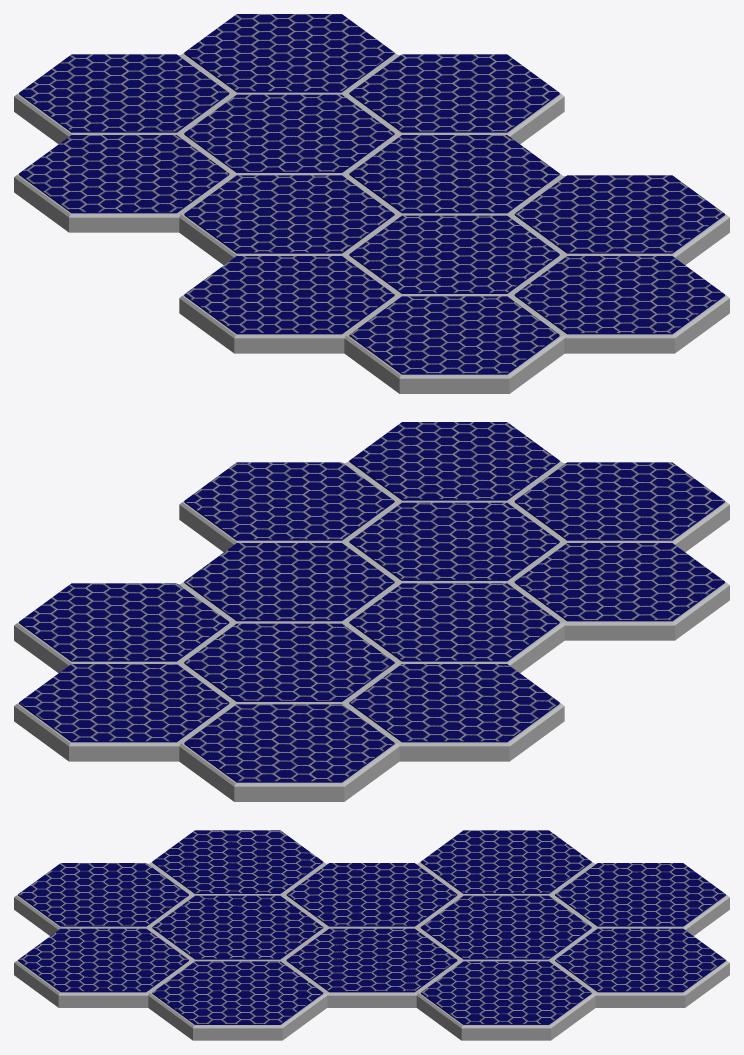
The model's file is SolarHex.fbx.
3 views of the same model, one above another, from view 1: azimuth 30°, elevation 25°; view 2: azimuth 150°, elevation 25°; view 3: azimuth 270°, elevation 25° (orthographic). The views are drawn at different scales.
Visible parts, largest first — view 1: Cylinder; view 2: Cylinder; view 3: Cylinder.
Boxes of the visible parts, x1=… form: Cylinder: x1=14, y1=14, x2=729, y2=393; Cylinder: x1=14, y1=422, x2=729, y2=801; Cylinder: x1=14, y1=830, x2=729, y2=1040.
Size of the model in its own units: 520 by 18.91 by 800.
